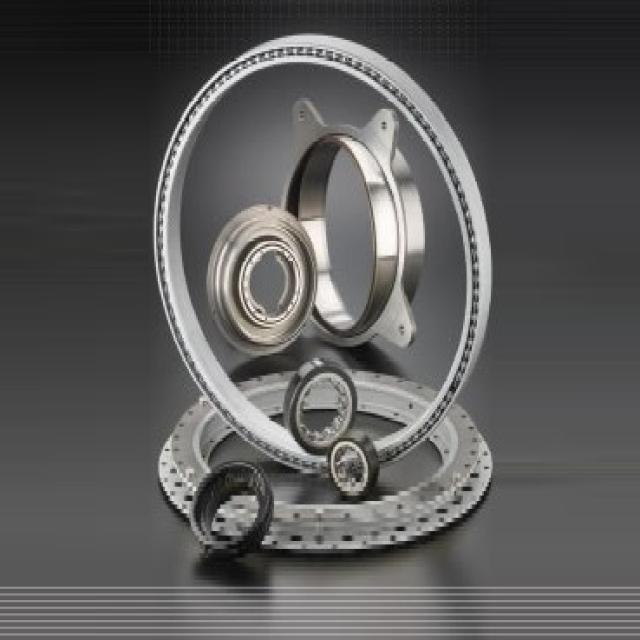Bearing: (151, 31, 494, 477), (231, 224, 308, 341), (190, 456, 275, 561), (284, 356, 358, 456), (327, 430, 380, 503)
